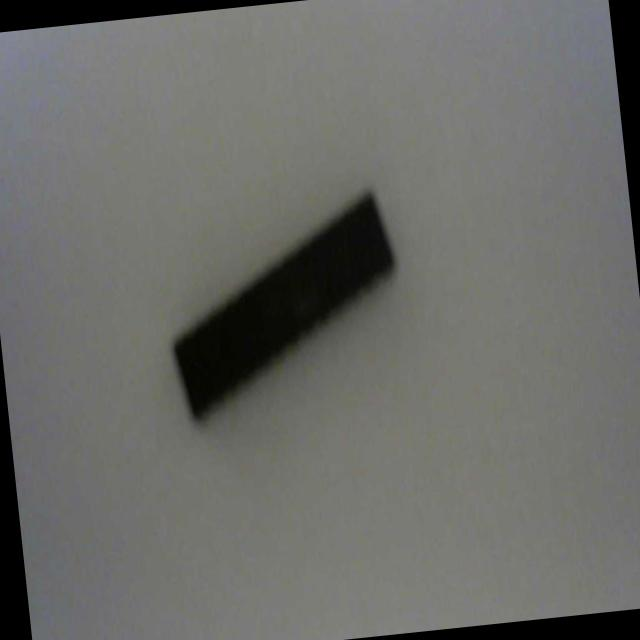atmega: (154, 181, 413, 427)
